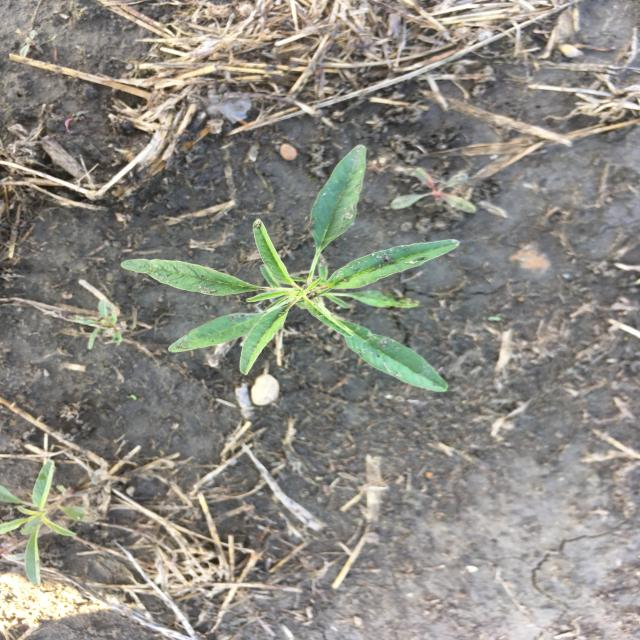Waterhemp: (117, 142, 464, 396), (2, 456, 92, 590)
